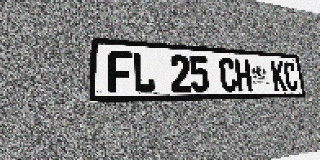2: (170, 54, 191, 92)
5: (189, 56, 210, 92)
C: (218, 57, 237, 92), (283, 62, 299, 91)
F: (108, 50, 132, 93)
H: (234, 58, 253, 92)
K: (270, 61, 287, 91)
L: (132, 52, 155, 93)
